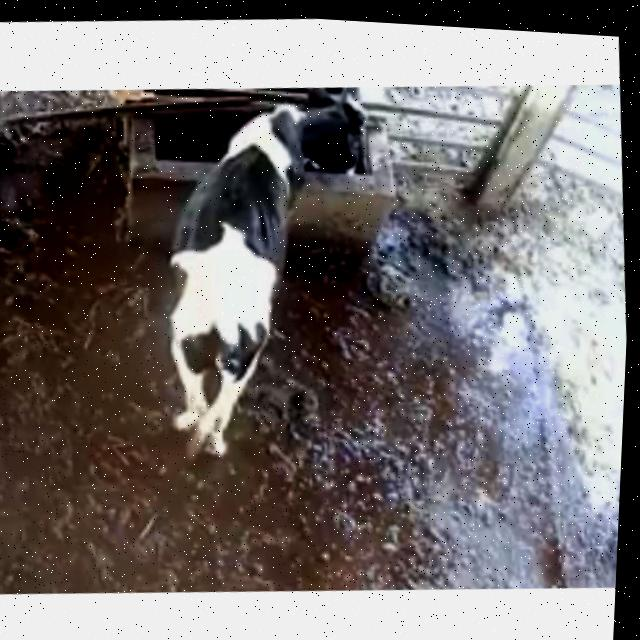drink: (210, 80, 390, 241)
